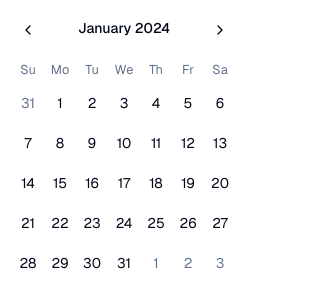
Test: Calendar › navega para o próximo mês e para o mês anterior
Check: the text "January 2024" is shown, box [78,18,170,38]
Click the button named "next" at (220, 30), box [204,12,236,48]
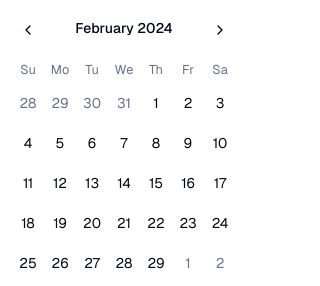
Check: the text "February 2024" is shown, box [75,18,173,38]
Click the button named "previous" at (28, 30), box [12,12,44,48]
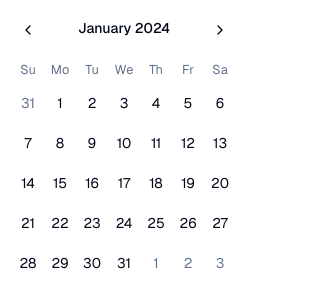
Check: the text "January 2024" is shown, box [78,18,170,38]
